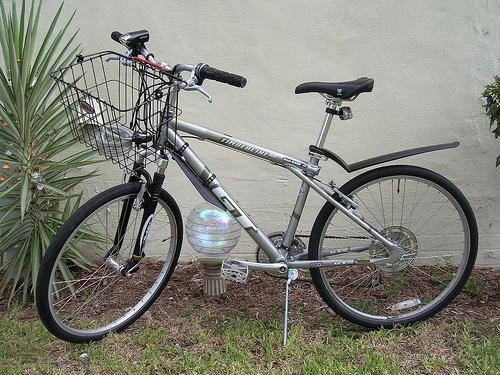bicycle: (35, 25, 485, 346)
